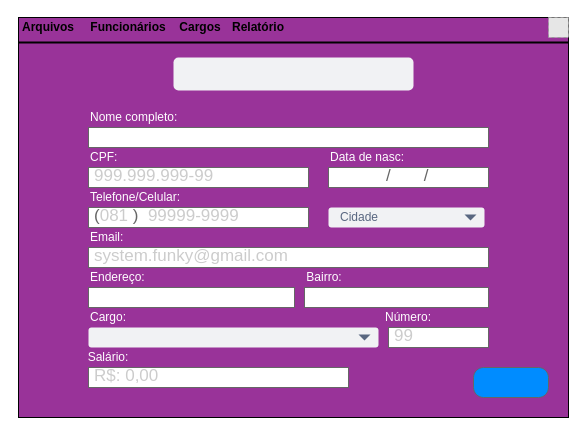
This 586x435 diagram has some shape labels left out. Grey dashed boxes stand in for pictures. Each missing label, with the box of its shape:
Cadastro de funcionários: (173, 57, 413, 90)
Gerente de projetos: (88, 327, 378, 347)
Salvar: (472, 366, 548, 398)
